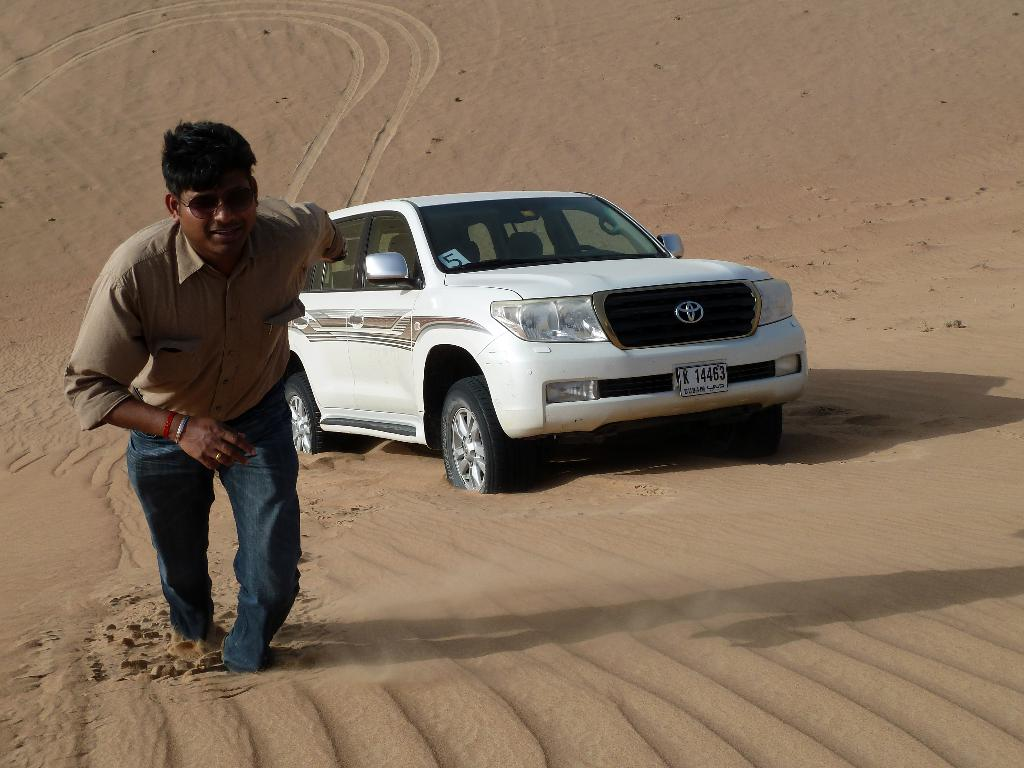Car: (261, 181, 798, 490)
